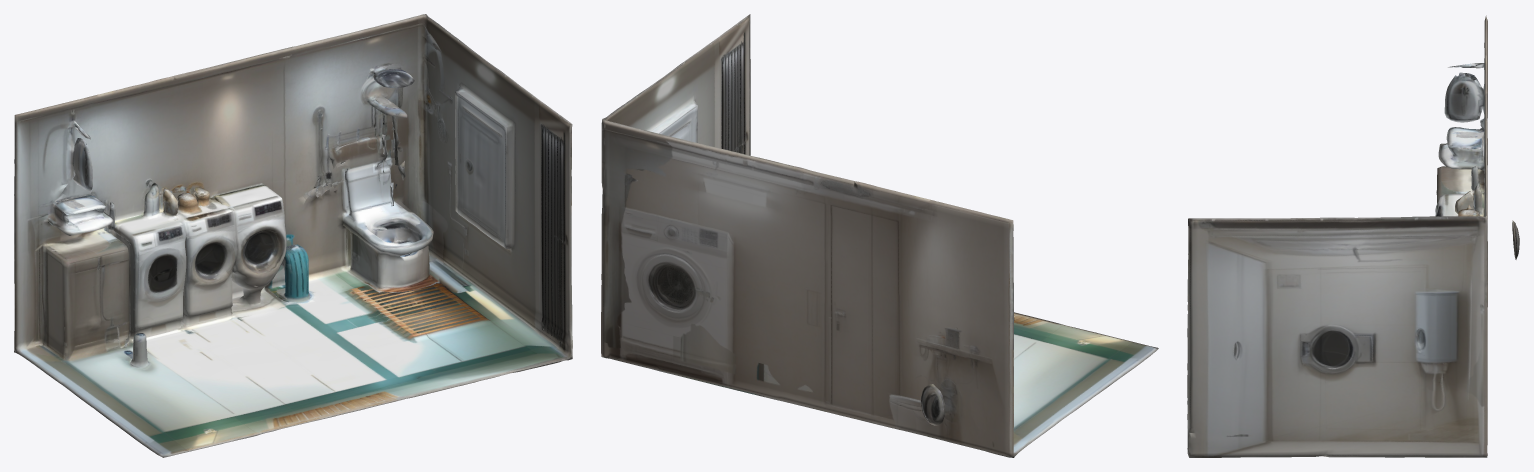
File: bathroom.glb
3 renders of one model, left to right at view 1: azimuth 30°, elevation 25°; view 2: azimuth 150°, elevation 25°; view 3: azimuth 270°, elevation 25°, orthographic.
Size of the model in its own units: 2 by 1.11 by 1.38.
Materials: 1 (1 with a texture image).
